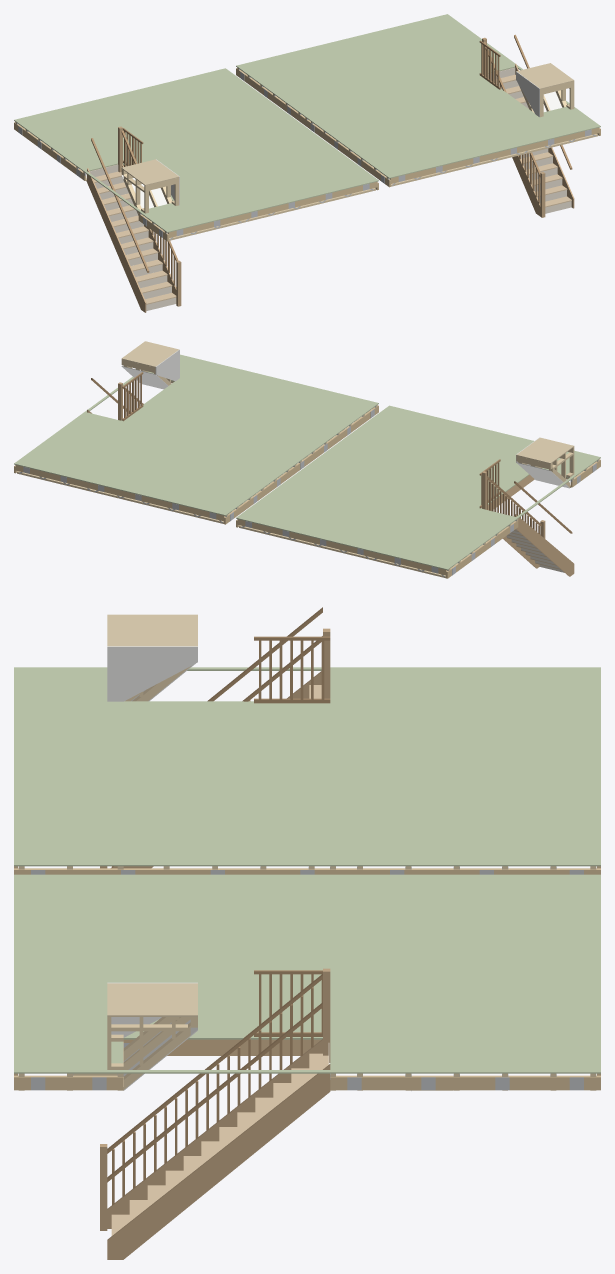
Rendered from stage-3.glb.
The picture shows the model from 3 angles, top to bottom: view 1: azimuth 30°, elevation 25°; view 2: azimuth 150°, elevation 25°; view 3: azimuth 270°, elevation 25°; orthographic projection. The views are drawn at different scales.
Parts seen in each view (by area): view 1: Geom3D (×10); view 2: Geom3D (×9); view 3: Geom3D (×10).
Part boxes in pixels (box(x1,y1,x2,y2)): Geom3D (×10): box(14, 14, 600, 312); Geom3D (×9): box(14, 341, 600, 578); Geom3D (×10): box(14, 607, 600, 1259).
Size of the model in its own units: 11.9 by 3.55 by 7.28.
